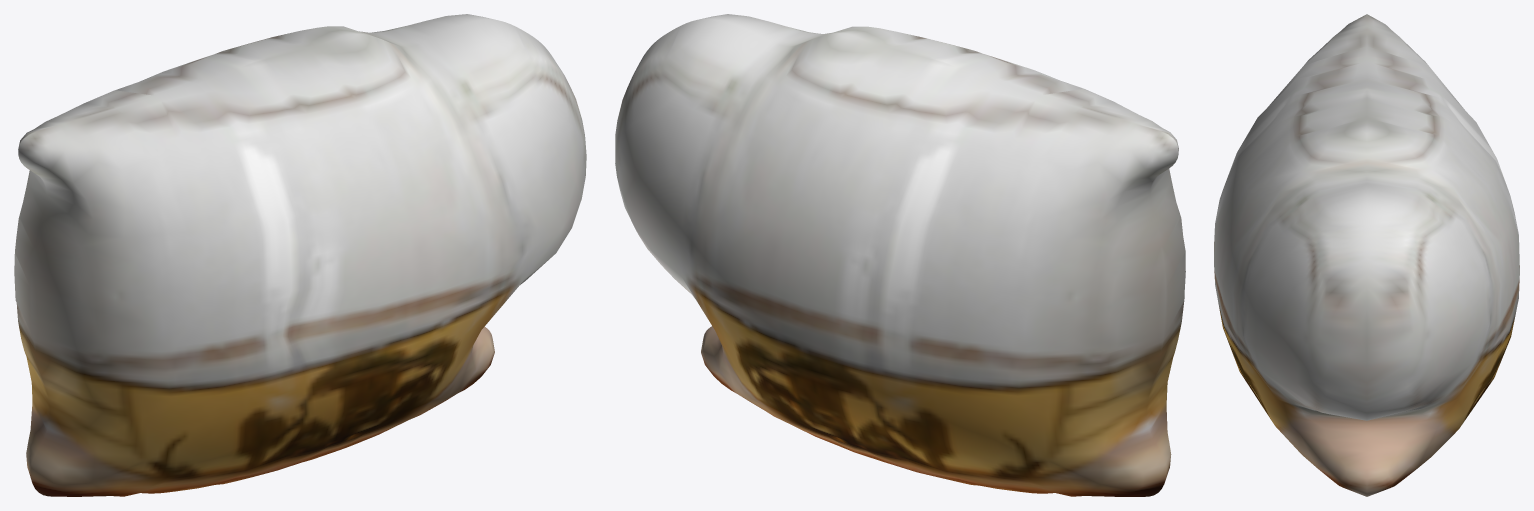
The model's file is teacup.glb.
3 renders of one model, left to right at view 1: azimuth 30°, elevation 25°; view 2: azimuth 150°, elevation 25°; view 3: azimuth 270°, elevation 25°, orthographic. The views are drawn at different scales.
Parts seen in each view (by area): view 1: 660f3d18-ebd8-4d61-b5e0-760351afe2cb; view 2: 660f3d18-ebd8-4d61-b5e0-760351afe2cb; view 3: 660f3d18-ebd8-4d61-b5e0-760351afe2cb.
Boxes of the visible parts, box(x1,y1,x2,y2) form: 660f3d18-ebd8-4d61-b5e0-760351afe2cb: box(14, 14, 586, 496); 660f3d18-ebd8-4d61-b5e0-760351afe2cb: box(615, 14, 1185, 496); 660f3d18-ebd8-4d61-b5e0-760351afe2cb: box(1214, 14, 1519, 496).
Bounding box in the file's own units: 1.36 × 0.9439 × 0.7601.
1 material, 1 textured.
